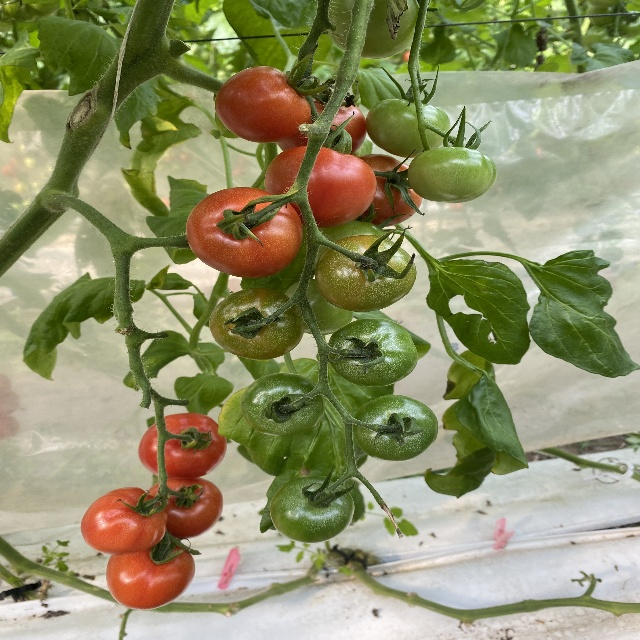l_fully_ripened: (187, 187, 304, 279), (263, 143, 378, 228), (215, 66, 311, 143), (106, 536, 196, 610), (138, 413, 227, 479), (80, 487, 166, 555), (277, 93, 366, 155), (354, 154, 423, 228), (147, 477, 225, 540)
l_green: (315, 234, 417, 312), (209, 287, 304, 359), (327, 317, 418, 387), (352, 395, 439, 462), (270, 475, 354, 544), (240, 372, 325, 437), (328, 0, 421, 58), (408, 146, 497, 203), (366, 99, 451, 157), (285, 279, 354, 335)
